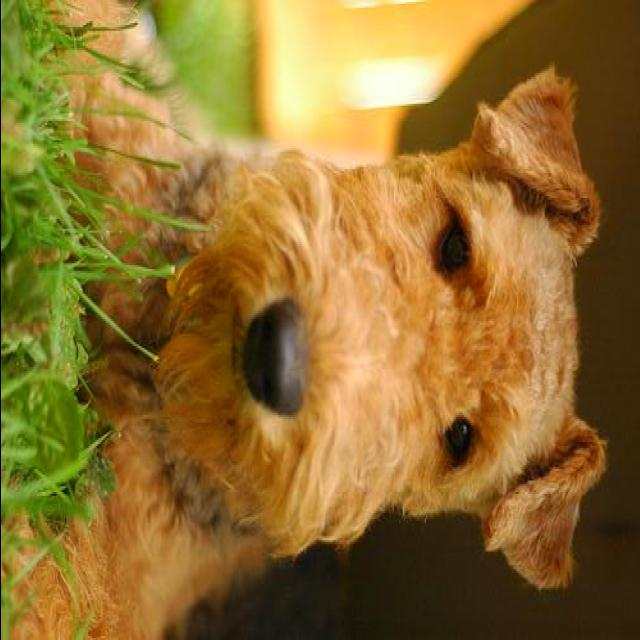airedale: (2, 0, 602, 636)
